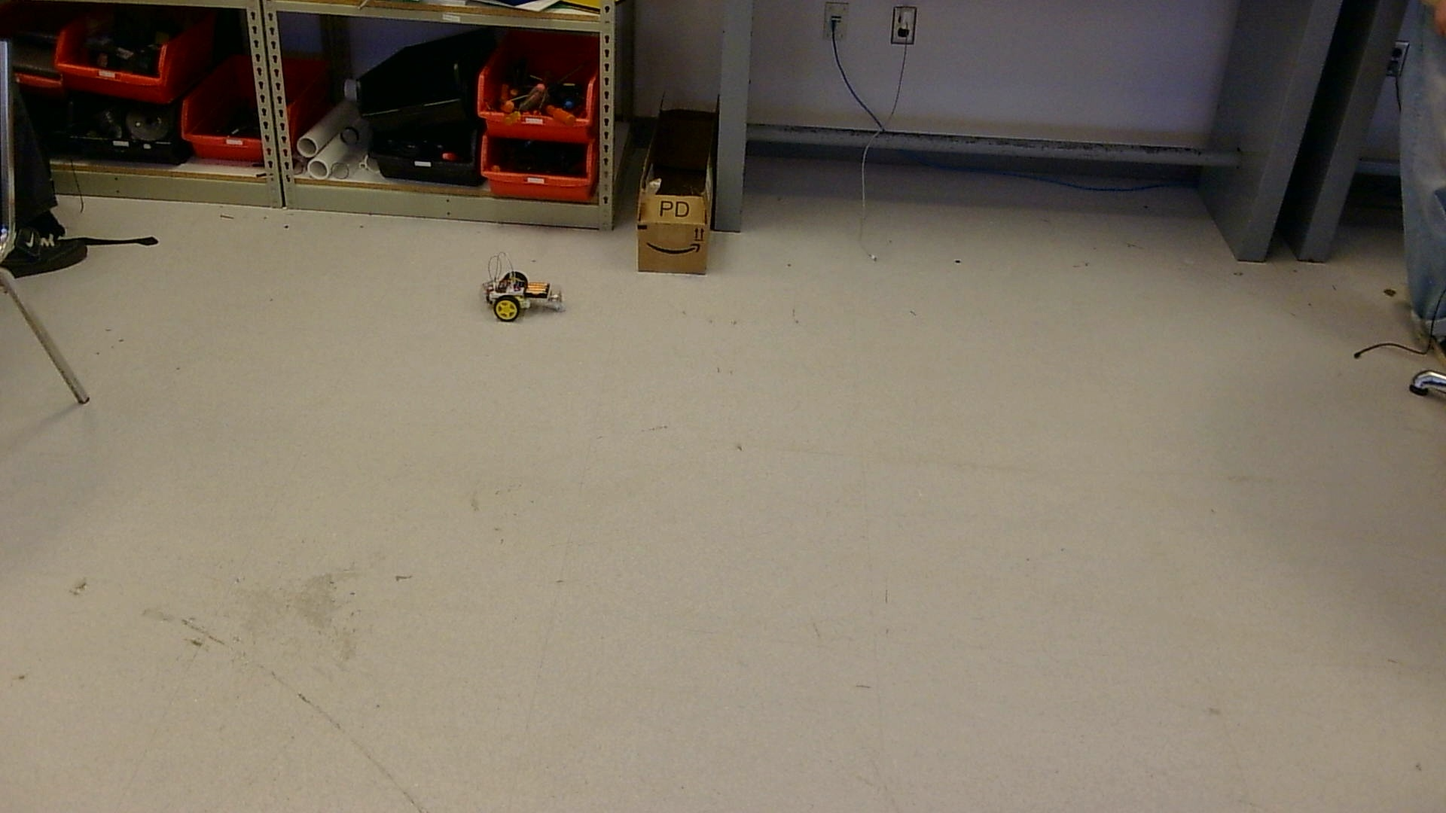robot: (482, 253, 564, 321)
